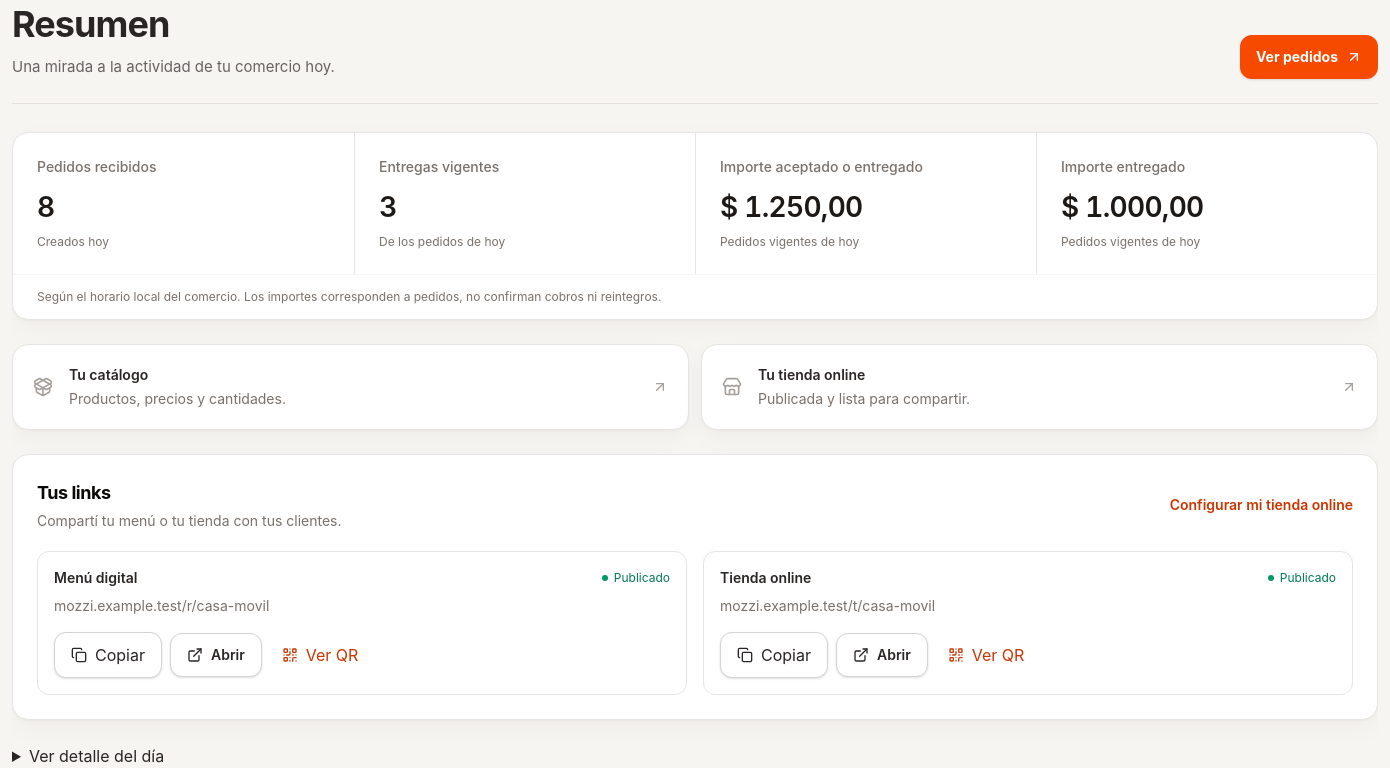
it: quiet administrative overview › shows four primary metrics and keeps the detailed accounting available on demand
(page scrolled)
Expected: the heading "Resumen" is shown, 12,2 -> 170,46
Expected: the heading "Importe aceptado o entregado" is shown, 720,158 -> 923,174
Click the heading "Ver detalle del día".
click(96, 756)  # box 29,746 -> 164,766
(page scrolled)
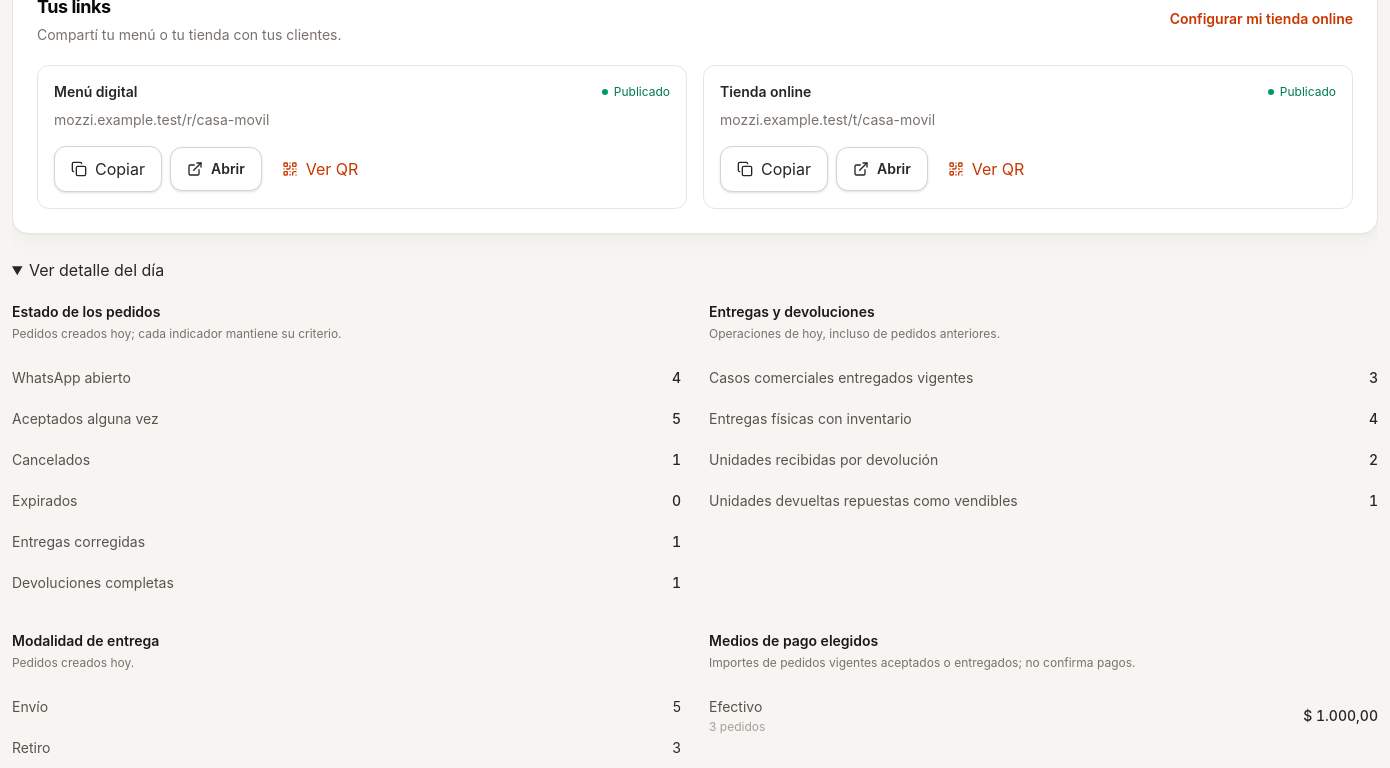
Result: the text "Casos comerciales entregados vigentes" is shown at 709,368 -> 973,388
Result: the text "Aceptados alguna vez" is shown at 12,409 -> 159,429
Result: the text "Unidades devueltas repuestas como vendibles" is shown at 709,491 -> 1018,511
